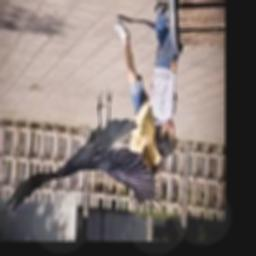Crow: (9, 89, 163, 222)
